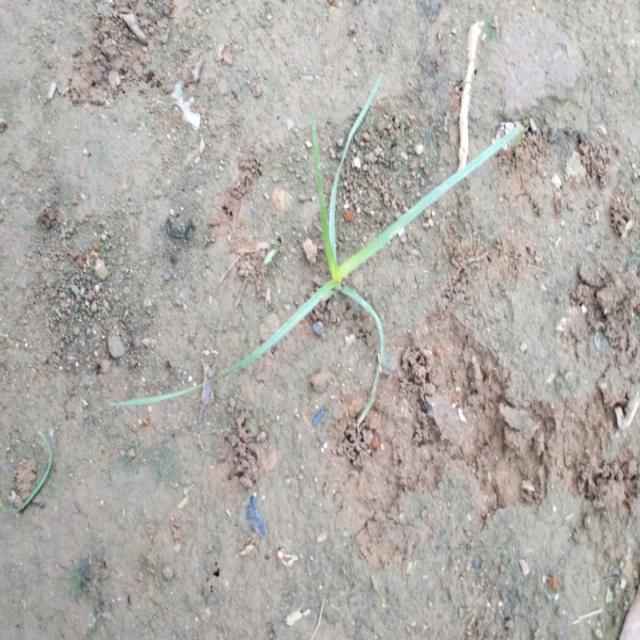sedge: (134, 95, 508, 402)
